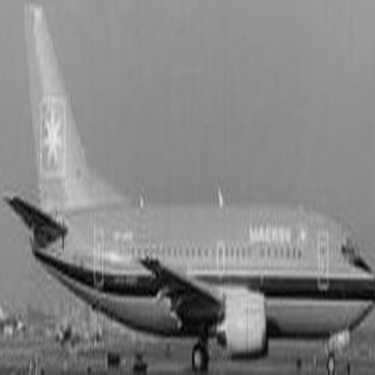airplane: (1, 1, 360, 359)
